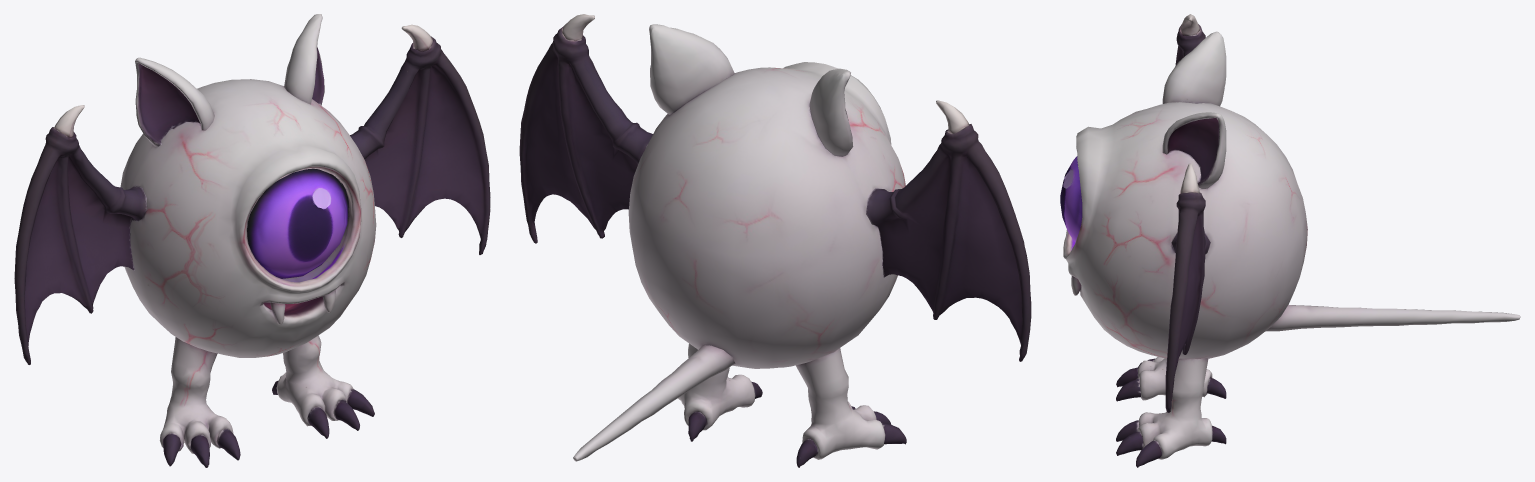
The model's file is bat.glb.
3 views of the same model, side by side, from view 1: azimuth 30°, elevation 25°; view 2: azimuth 150°, elevation 25°; view 3: azimuth 270°, elevation 25° (orthographic). The views are drawn at different scales.
Visible parts, largest first — view 1: tripo_node_9e675a5c-5e23-44c9-a6d9-dd8b7855a38a; view 2: tripo_node_9e675a5c-5e23-44c9-a6d9-dd8b7855a38a; view 3: tripo_node_9e675a5c-5e23-44c9-a6d9-dd8b7855a38a.
Part boxes in pixels (box(x1,y1,x2,y2)): tripo_node_9e675a5c-5e23-44c9-a6d9-dd8b7855a38a: box(14, 14, 490, 467); tripo_node_9e675a5c-5e23-44c9-a6d9-dd8b7855a38a: box(519, 14, 1031, 467); tripo_node_9e675a5c-5e23-44c9-a6d9-dd8b7855a38a: box(1060, 14, 1520, 467).
Bounding box in the file's own units: 0.998 × 0.7559 × 0.9043.
1 material, 1 textured.
